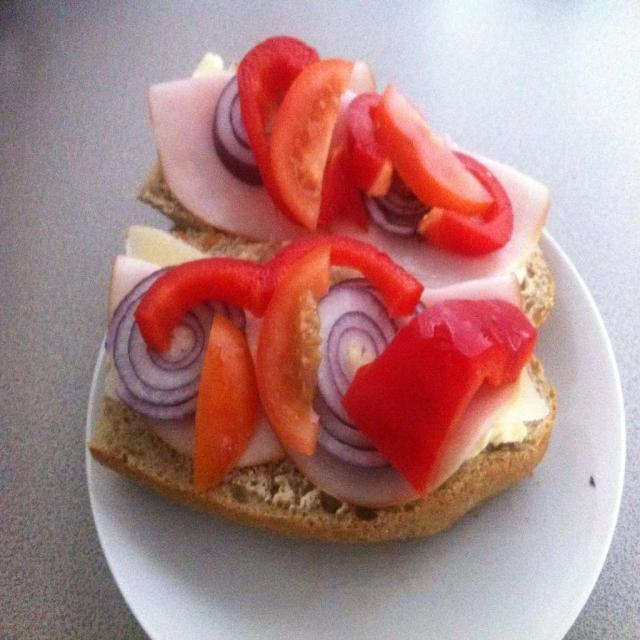Bread: (144, 154, 554, 328)
